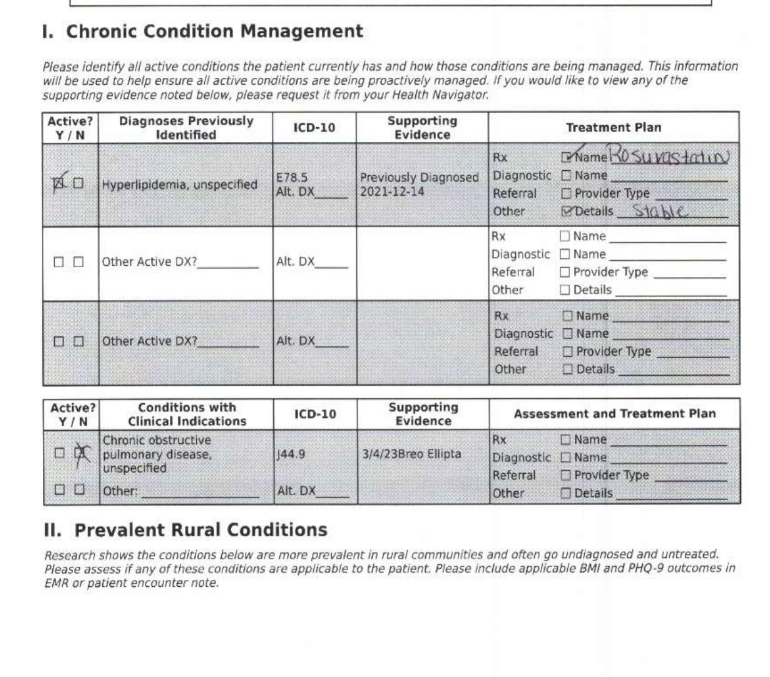checked: (48, 166, 71, 199), (71, 438, 94, 469), (559, 145, 579, 167), (558, 202, 576, 220)
